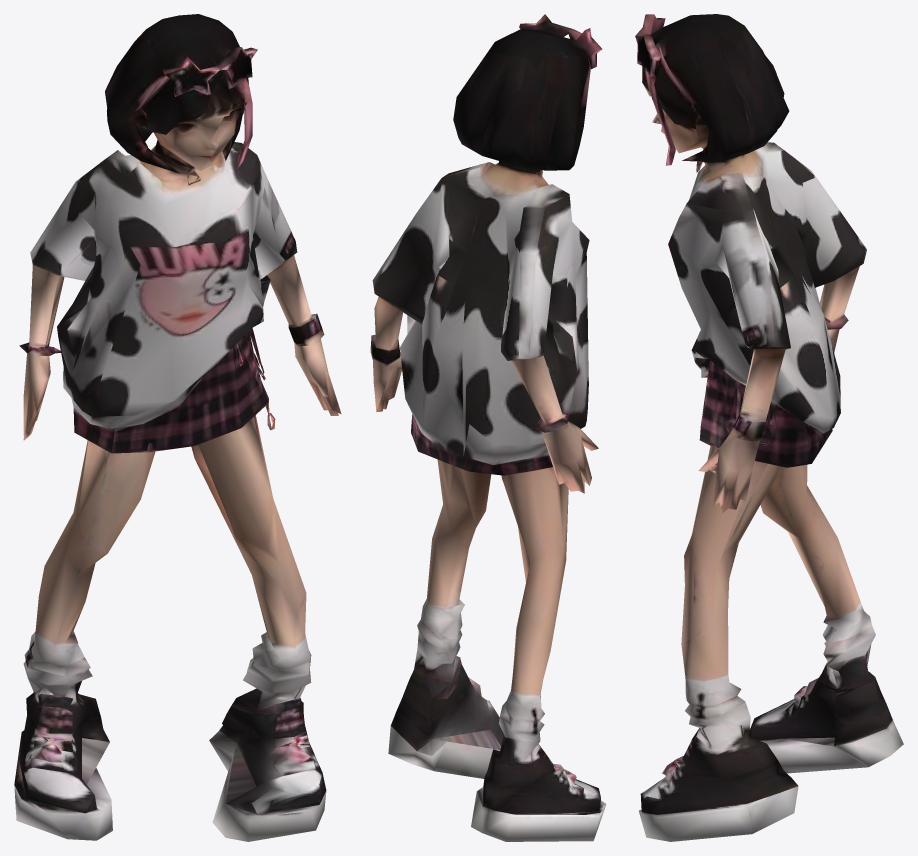
Rendered from fan02.glb.
3 renders of one model, left to right at view 1: azimuth 30°, elevation 25°; view 2: azimuth 150°, elevation 25°; view 3: azimuth 270°, elevation 25°, orthographic. The views are drawn at different scales.
Visible parts, largest first — view 1: material_proxy; view 2: material_proxy; view 3: material_proxy.
Part boxes in pixels (box(x1,y1,x2,y2)): material_proxy: box(14, 14, 341, 841); material_proxy: box(370, 14, 606, 841); material_proxy: box(635, 14, 903, 841).
Bounding box in the file's own units: 0.4054 × 1.14 × 0.355.
1 material, 1 textured.
